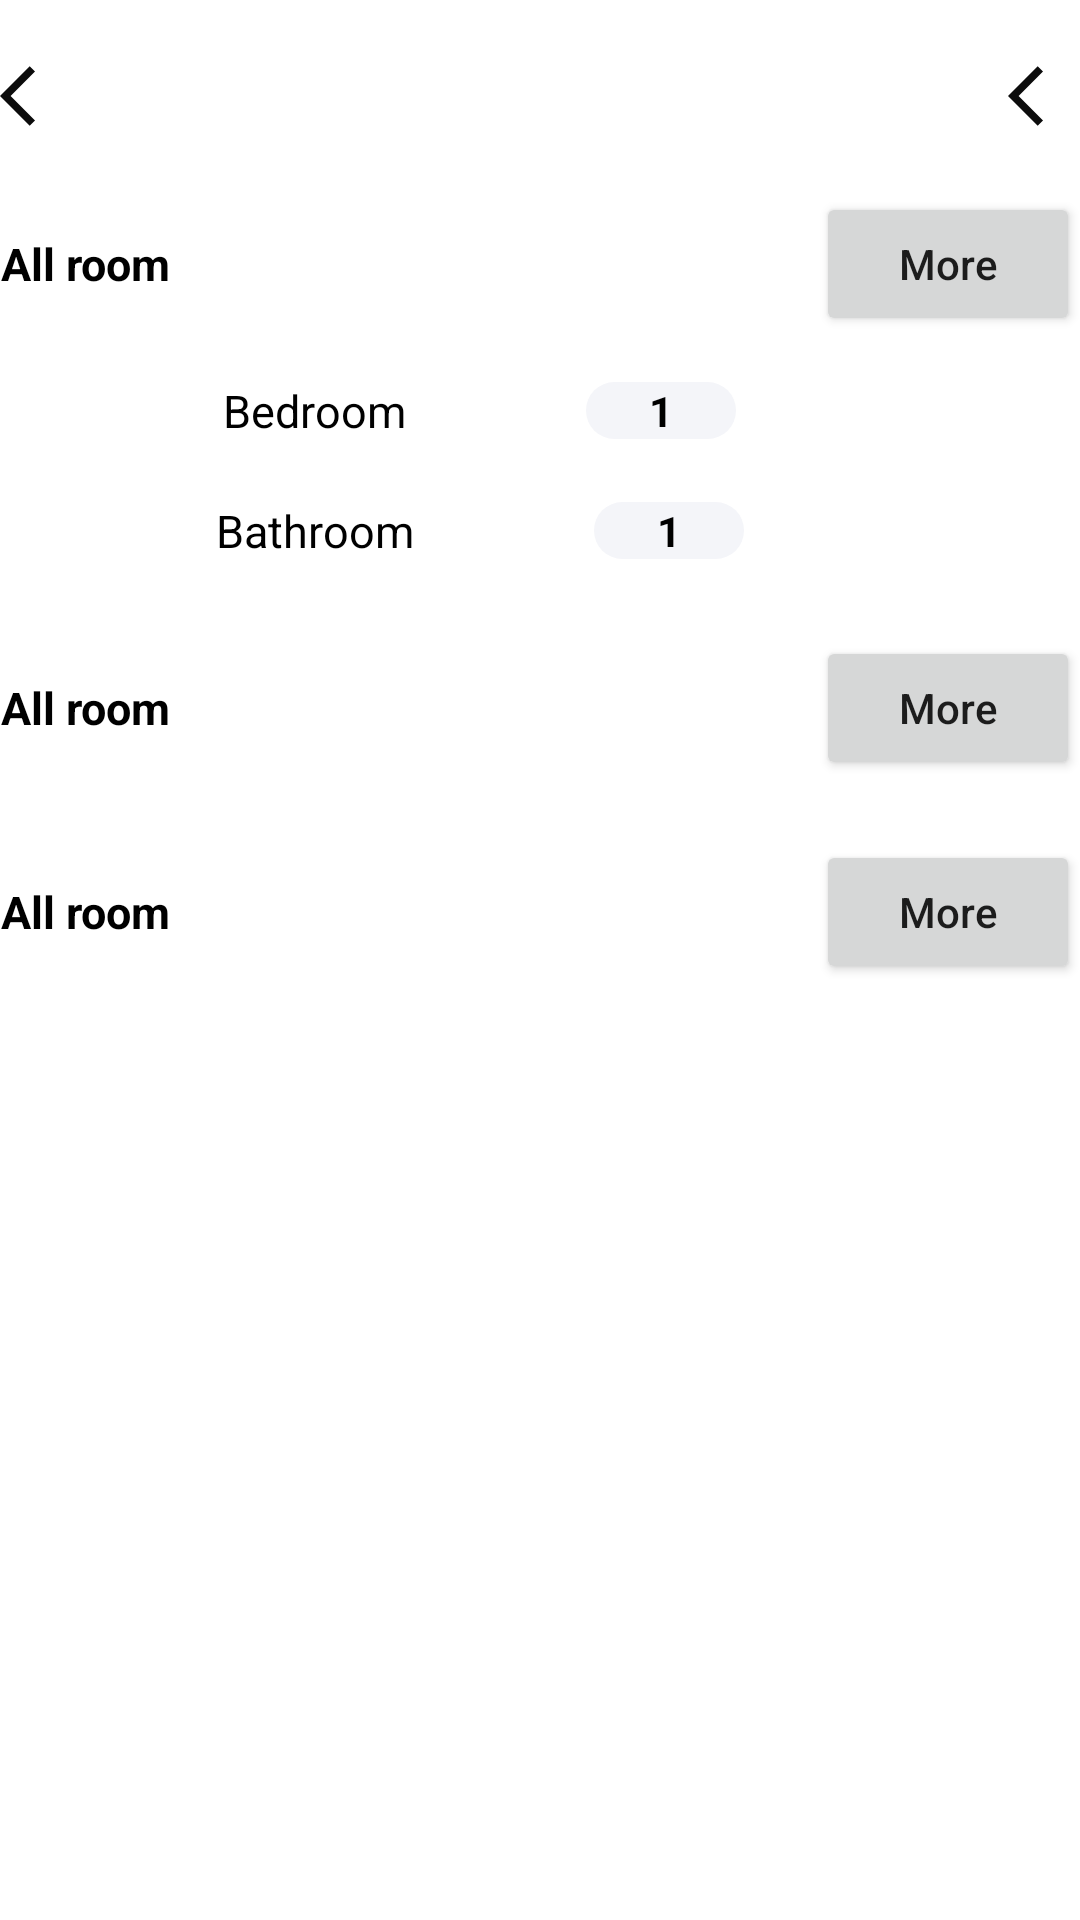

Icon click points for this 1080 × 1920 phone screenshot, format (x=x, y=y):
back: (x=17, y=96), (x=1025, y=96)
